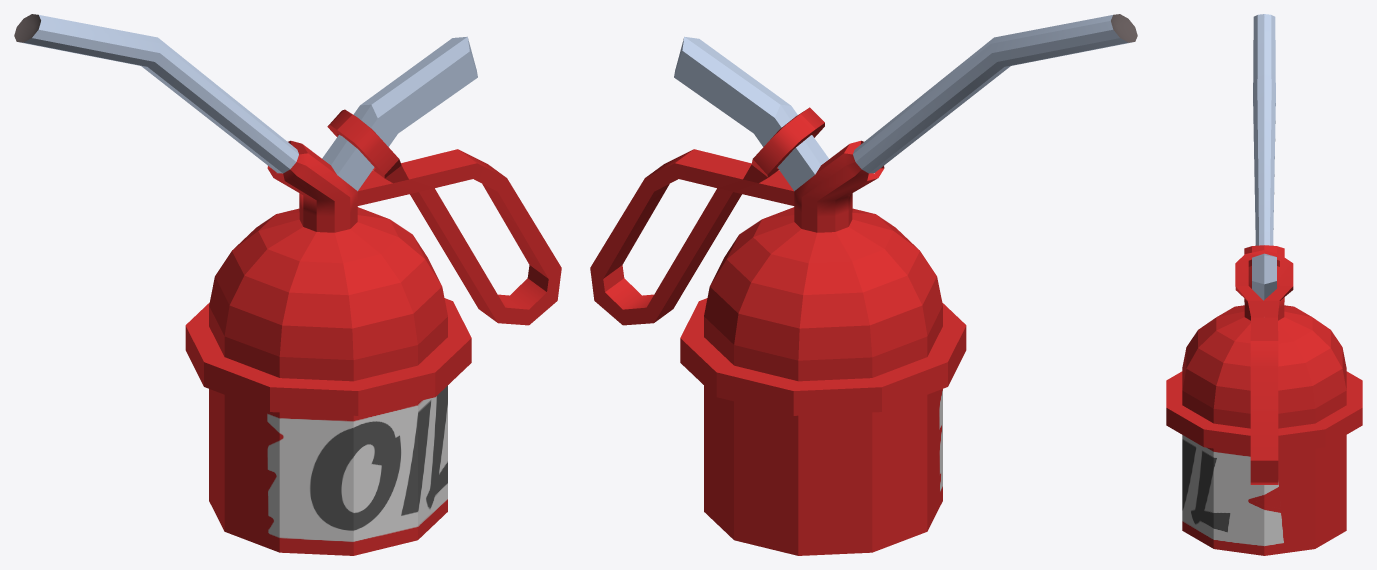
Rendered from M_Oilcan_OR.fbx.
The picture shows the model from 3 angles, left to right: view 1: azimuth 30°, elevation 25°; view 2: azimuth 150°, elevation 25°; view 3: azimuth 270°, elevation 25°; orthographic projection. The views are drawn at different scales.
Parts seen in each view (by area): view 1: OilCan; view 2: OilCan; view 3: OilCan.
Part boxes in pixels (left/top/right/bottom): OilCan: left=14, top=14, right=561, bottom=555; OilCan: left=590, top=14, right=1137, bottom=555; OilCan: left=1166, top=14, right=1362, bottom=555.
Size of the model in its own units: 5.15 by 5.16 by 2.28.
1 material, 1 textured.
